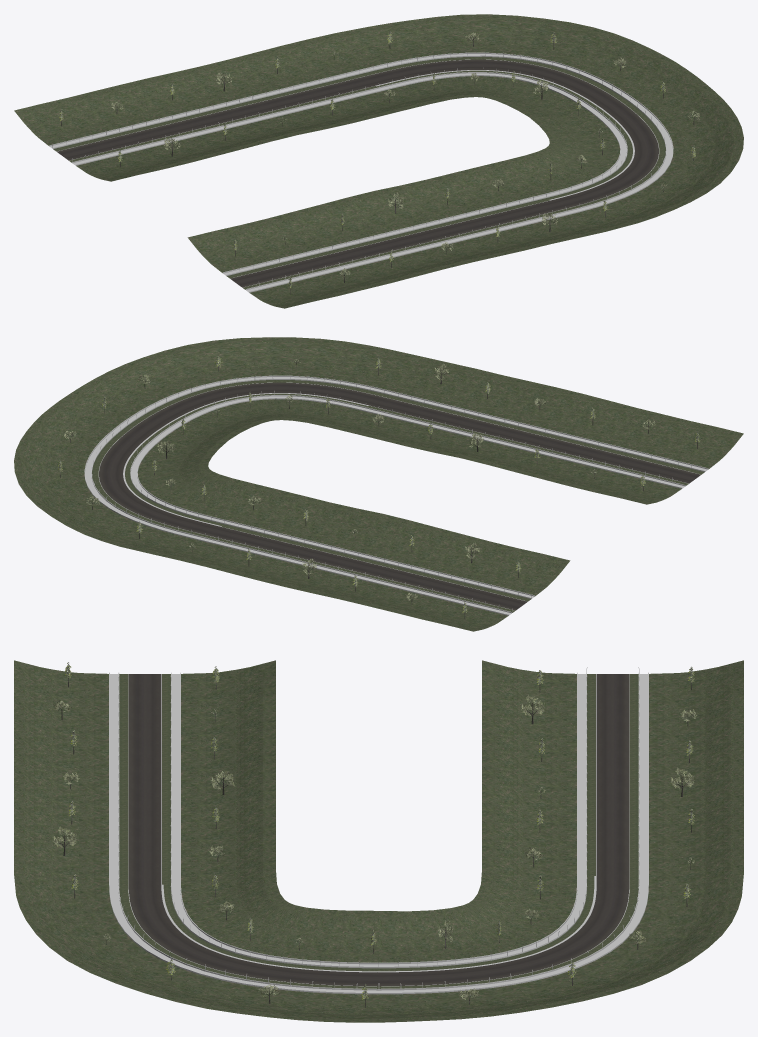
The picture shows the model from 3 angles, top to bottom: view 1: azimuth 30°, elevation 25°; view 2: azimuth 150°, elevation 25°; view 3: azimuth 270°, elevation 25°; orthographic projection. The views are drawn at different scales.
Visible parts, largest first — view 1: Grass, Road, Track, Trees; view 2: Grass, Road, Track, Trees; view 3: Grass, Road, Track, Trees.
Part boxes in pixels (box(x1,y1,x2,y2)): Grass: box(14, 14, 743, 308); Road: box(57, 59, 658, 287); Track: box(49, 52, 673, 292); Trees: box(59, 31, 700, 294); Grass: box(14, 337, 743, 631); Road: box(99, 382, 700, 610); Track: box(84, 375, 708, 615); Trees: box(58, 356, 699, 618); Grass: box(14, 660, 743, 1022); Road: box(128, 674, 629, 986); Track: box(109, 667, 648, 994); Trees: box(53, 662, 696, 1007).
Size of the model in its own units: 45608 by 1988 by 39000.
